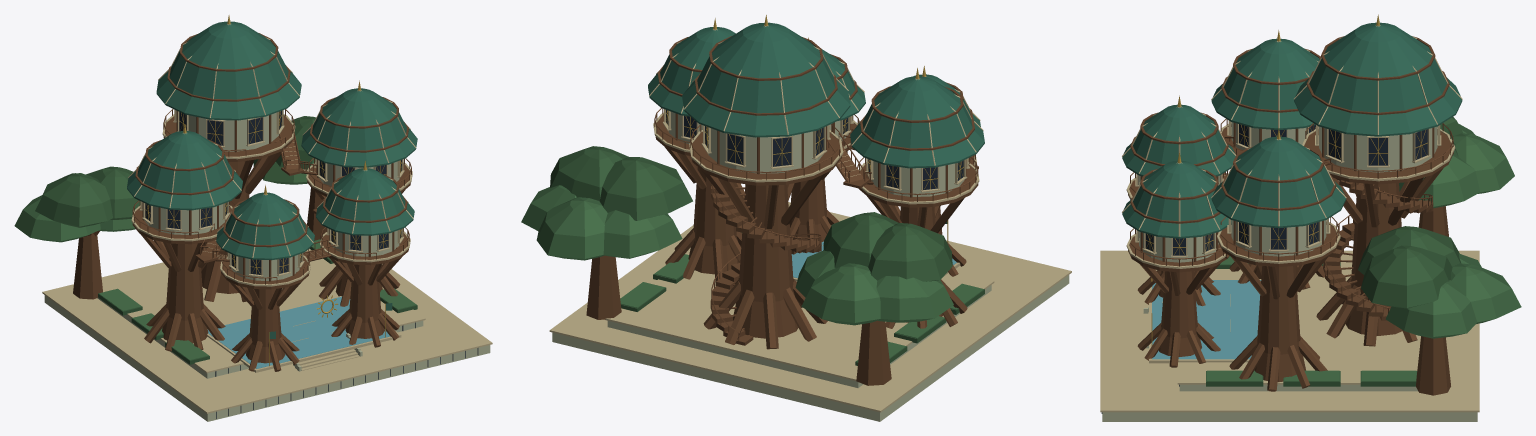
The model's file is grove-sanctuary.glb.
3 renders of one model, left to right at view 1: azimuth 30°, elevation 25°; view 2: azimuth 150°, elevation 25°; view 3: azimuth 270°, elevation 25°, orthographic. The views are drawn at different scales.
Parts seen in each view (by area): view 1: bearing-trees-roof, root-court, bearing-trees, leaf-crown, canopy-circulation; view 2: root-court, leaf-crown, bearing-trees, bearing-trees-roof, canopy-circulation; view 3: bearing-trees-roof, root-court, bearing-trees, leaf-crown, canopy-circulation.
Part boxes in pixels (x1,y1,x2,y2): bearing-trees-roof: (127,15,417,260); root-court: (42,239,492,421); bearing-trees: (131,109,412,371); leaf-crown: (14,116,392,366); canopy-circulation: (195,126,335,263); root-court: (549,191,1071,421); leaf-crown: (521,146,953,385); bearing-trees: (653,108,979,349); bearing-trees-roof: (648,15,984,168); canopy-circulation: (710,129,978,345); bearing-trees-roof: (1122,14,1462,238); root-court: (1100,250,1479,421); bearing-trees: (1126,119,1455,391); leaf-crown: (1151,117,1521,395); canopy-circulation: (1216,137,1433,320).
Size of the model in its own units: 43.29 by 32.85 by 38.17.
